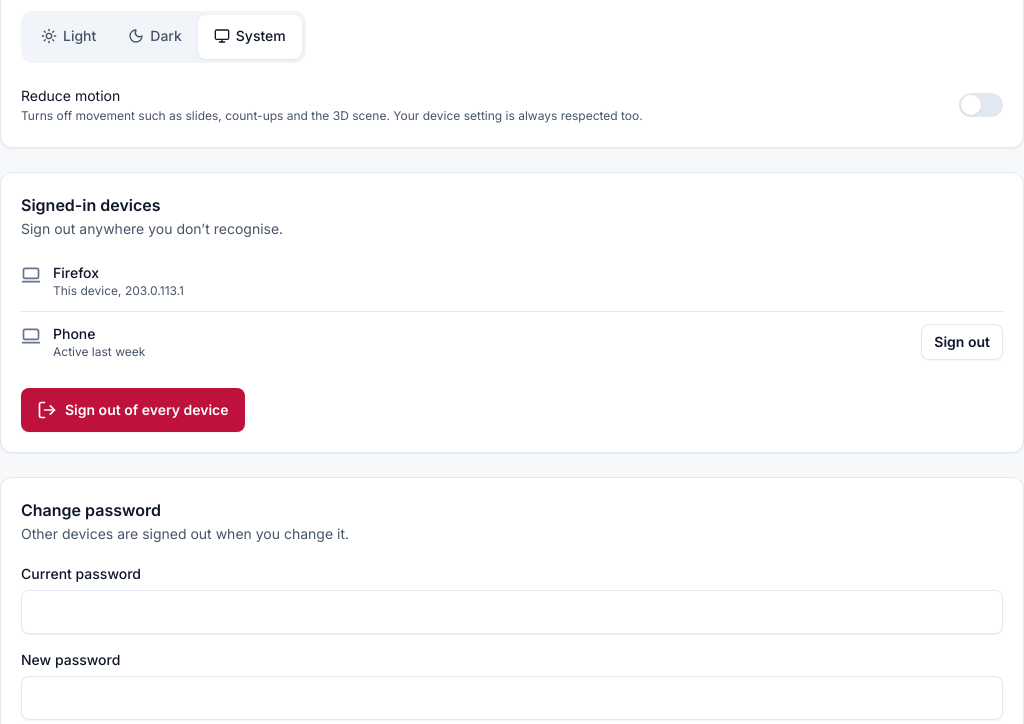
Signed-in pages › settings lists devices, revokes one and changes the password
The image size is (1024, 724).
(page scrolled)
expect the text "This device, 203.0.113.1" is shown: met, box [53,283,184,299]
Click the button "Sign out" at point(962, 342), box [921,324,1003,360]
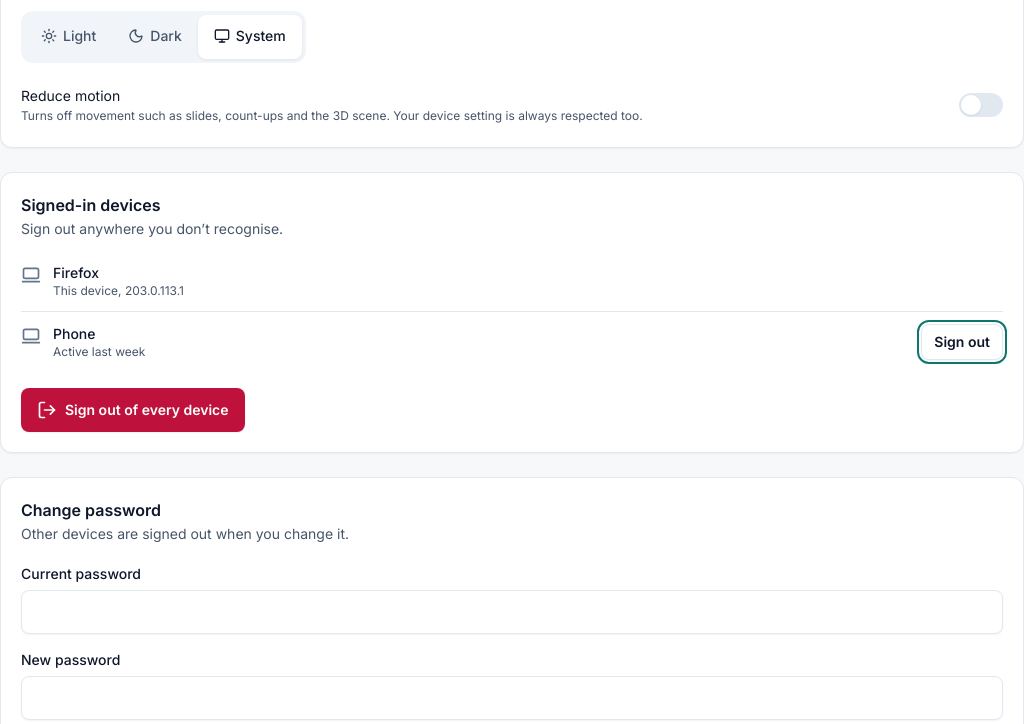
Type "wrong one 12345" into the password field labelled "Current password" at point(512, 612), box [21,590,1003,634]
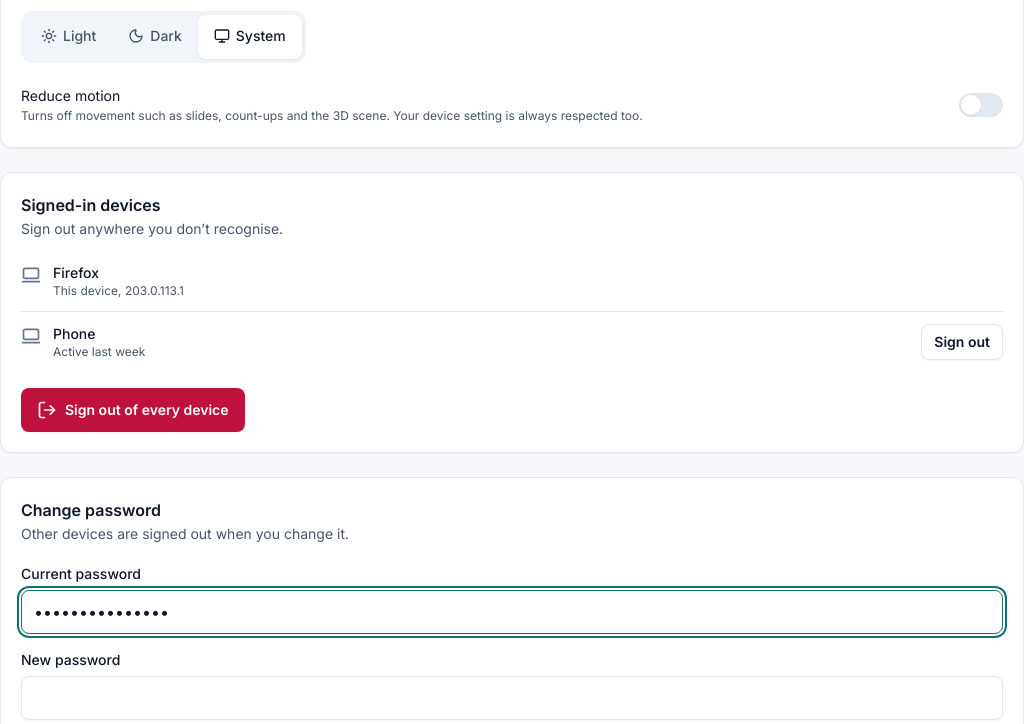
Type "another phrase 31!" into the password field labelled "New password" at point(512, 698), box [21,676,1003,720]
(page scrolled)
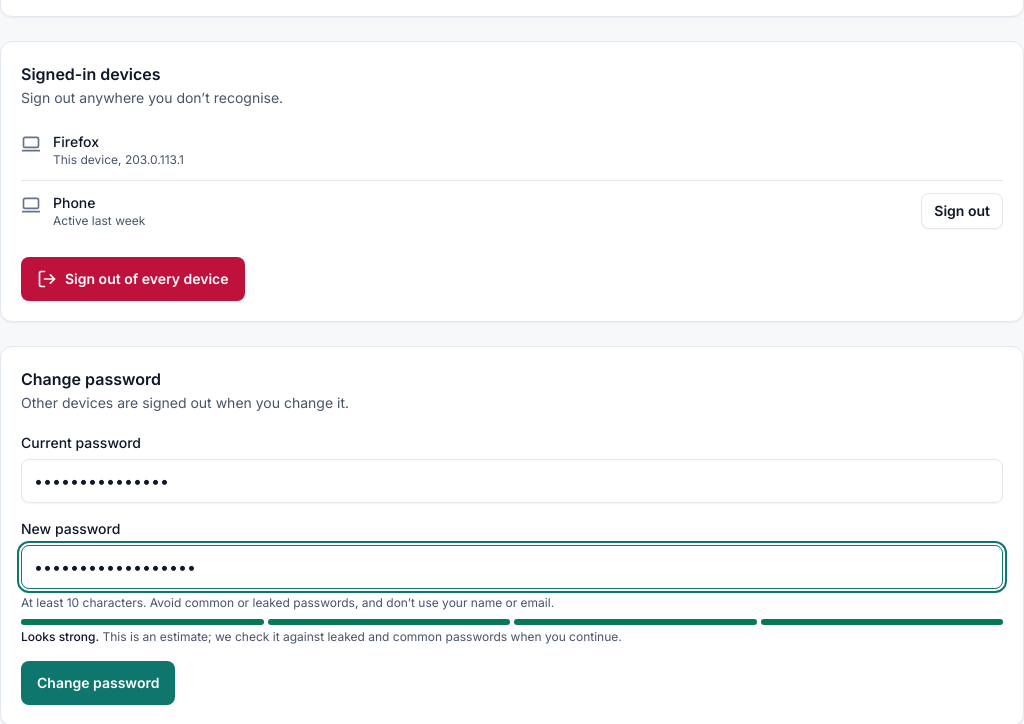
Click the button "Change password" at point(98, 683), box [21,661,175,705]
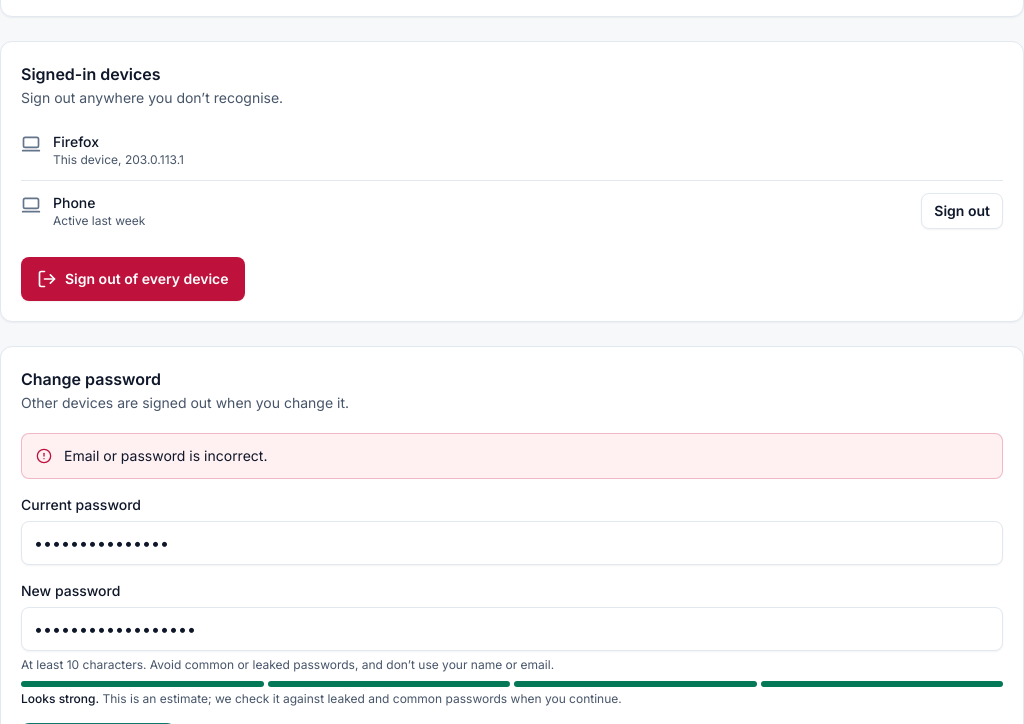
expect the text "Email or password is incorrect." is shown: met, box [64,446,267,466]
